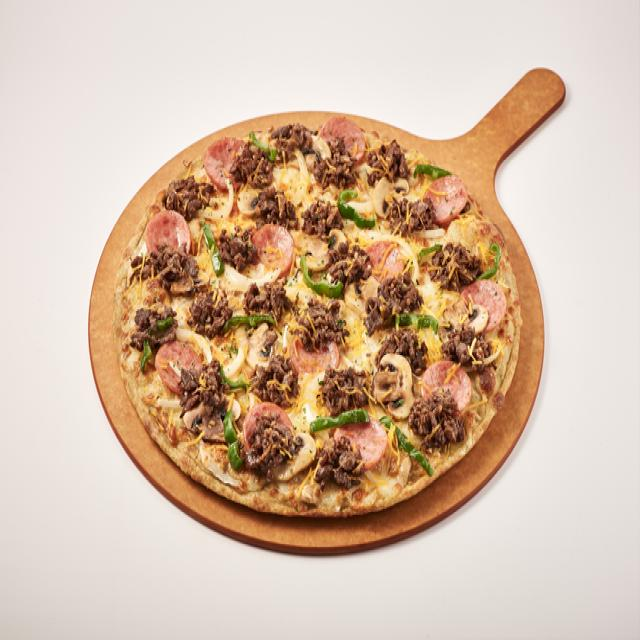Wet Waste: (107, 113, 527, 523)
